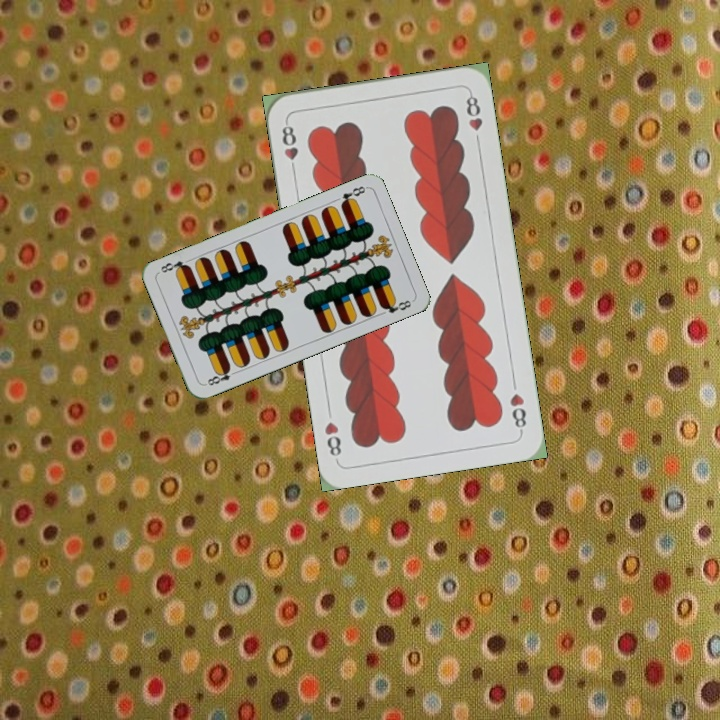E8: (201, 363, 240, 388), (337, 182, 368, 209)
H8: (278, 117, 301, 176), (505, 389, 529, 435)
